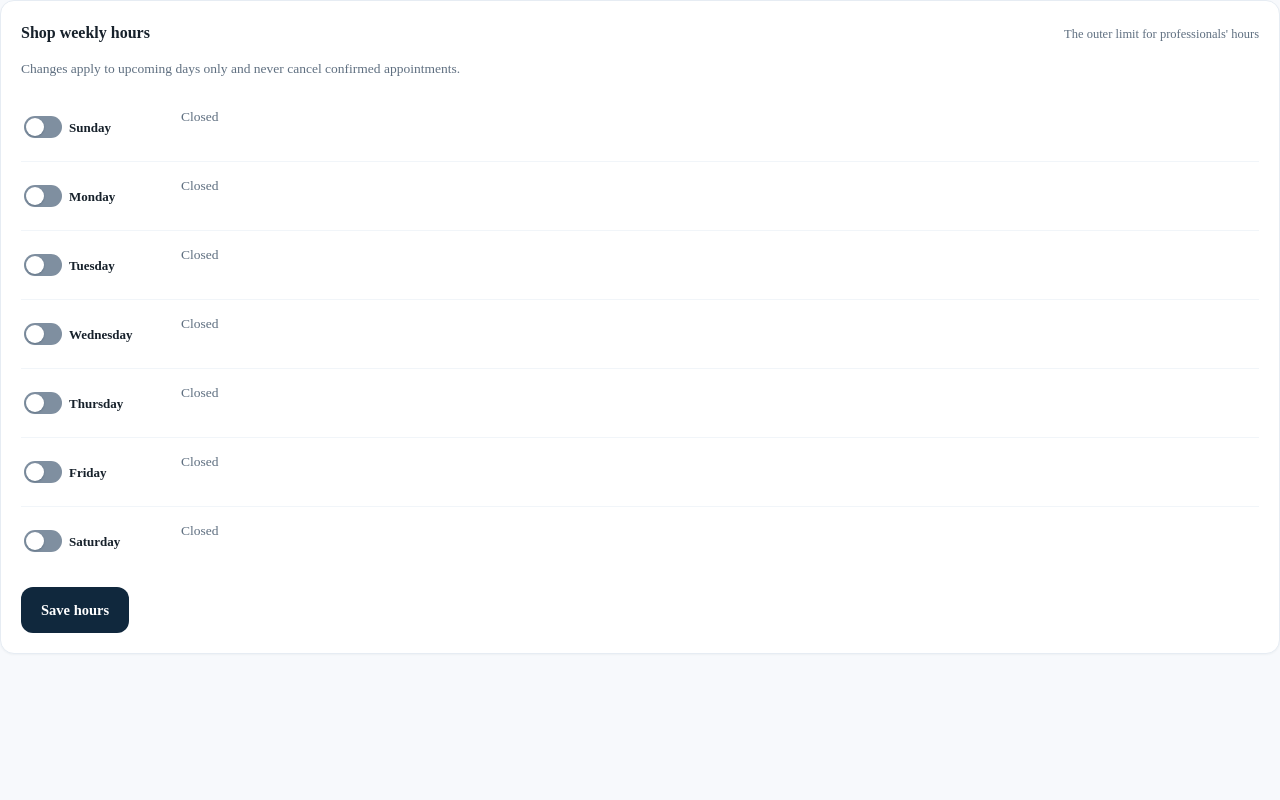
it: OpeningHoursCard › shows a validation problem from the API
Click the button "Save hours": (75, 610) [21, 587, 129, 633]
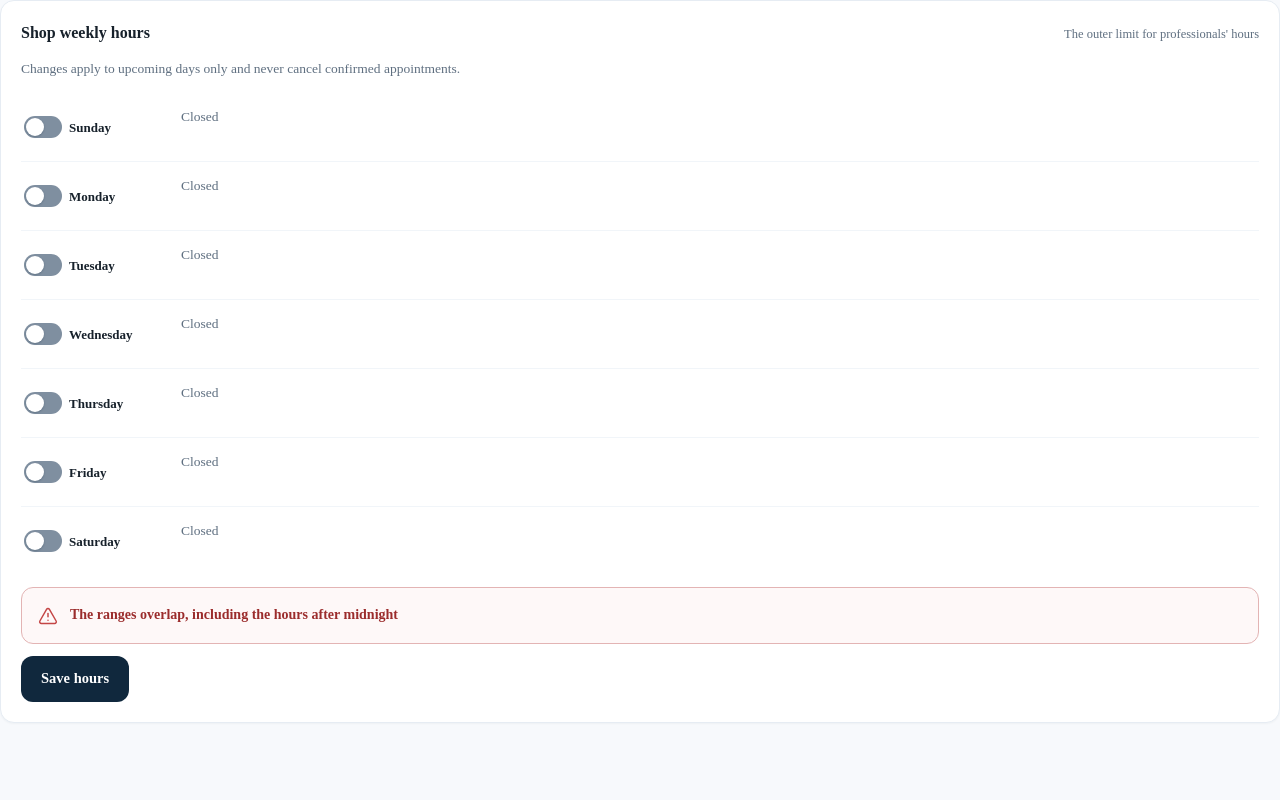
expect the text "The ranges overlap, including the hours after midnight" is shown: met, box [70, 607, 398, 622]
